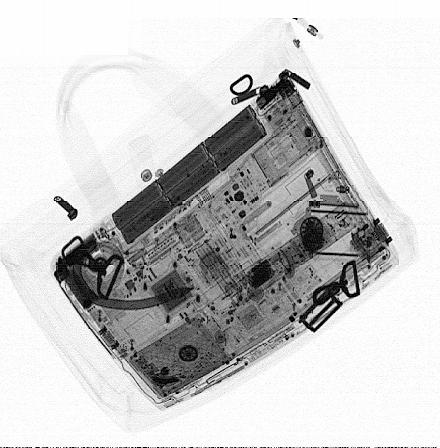Baton: (224, 201, 357, 309)
